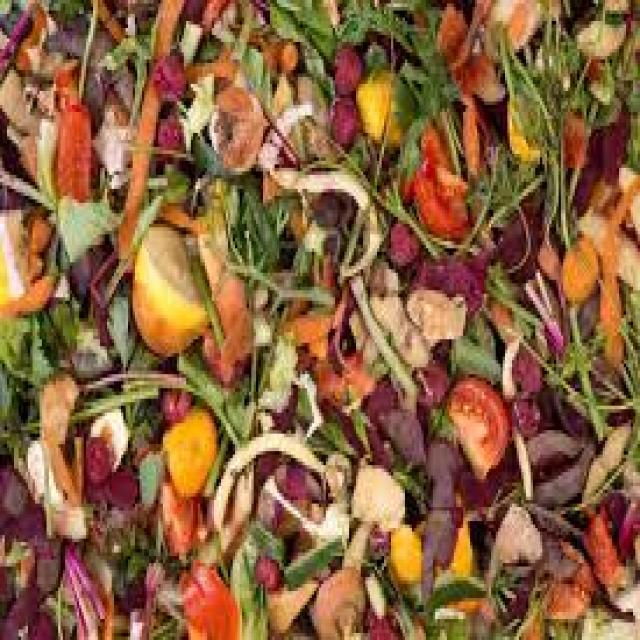Wet: (0, 3, 640, 637), (250, 258, 529, 481), (329, 35, 479, 248), (488, 0, 614, 205), (124, 219, 223, 372), (343, 455, 419, 574), (440, 376, 525, 478), (52, 55, 101, 218), (195, 86, 279, 178), (409, 144, 479, 244), (76, 428, 143, 530), (157, 413, 225, 504), (550, 213, 610, 311), (249, 543, 288, 600)
